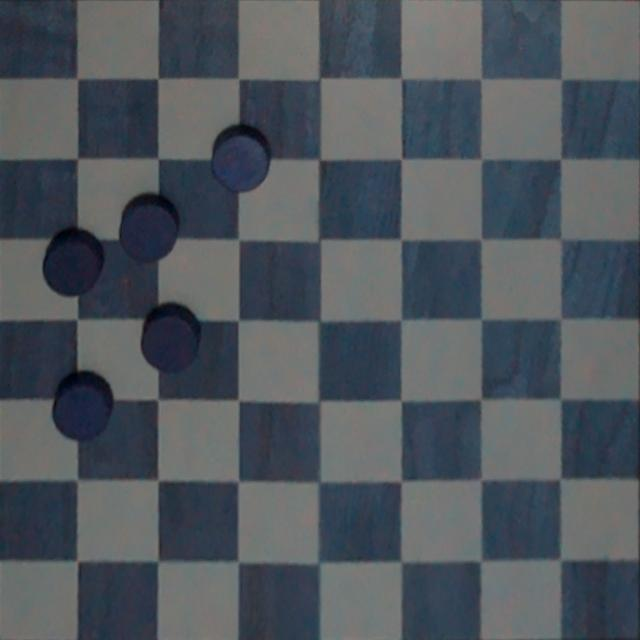BOARD: (0, 0, 640, 640)
black: (44, 366, 119, 448), (136, 300, 212, 379), (114, 188, 190, 266), (37, 222, 109, 303), (207, 114, 276, 198)
